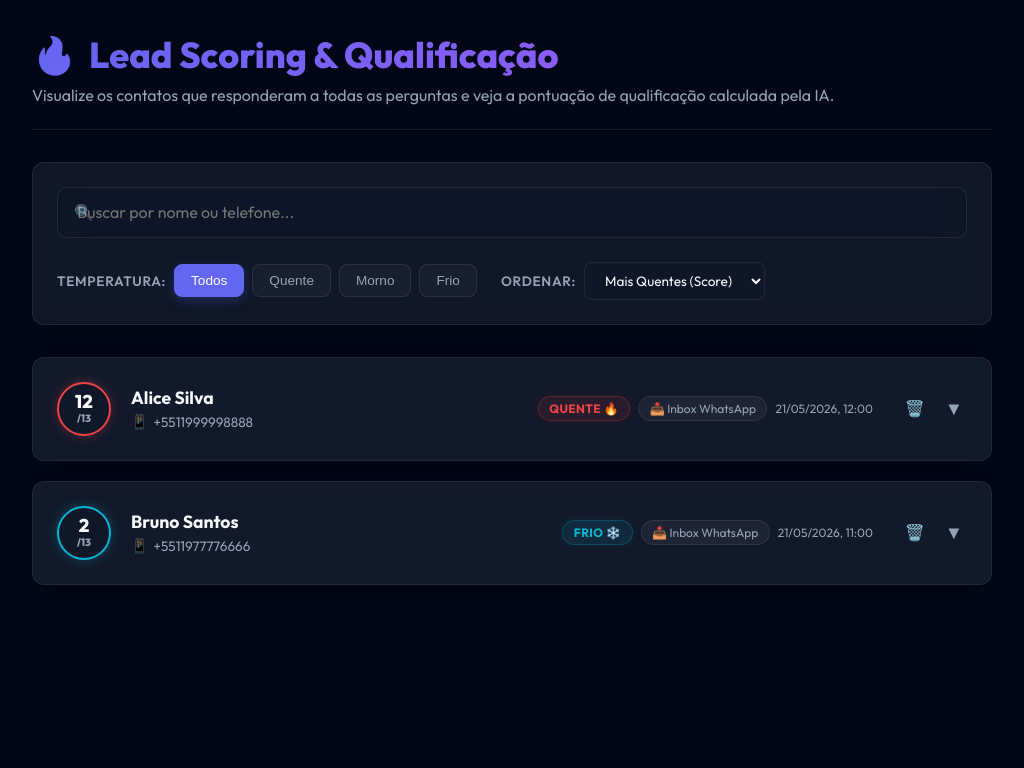
Test: LeadScoring Component › deve filtrar os leads ao digitar na caixa de pesquisa
Expected: the heading "Alice Silva" is shown, [131,386,214,409]
Type "Alice" into the field with placeholder "Buscar por nome ou telefone..." at (512, 212), box [77,188,947,237]
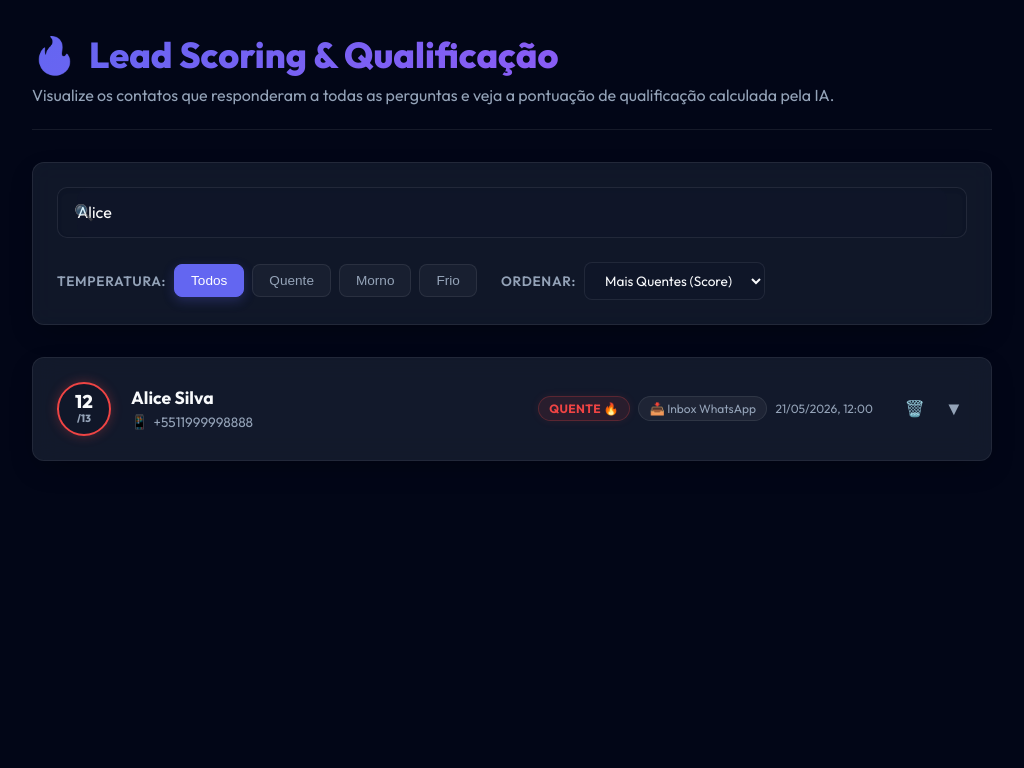
Expected: the heading "Alice Silva" is shown, [131,386,214,409]
Result: the heading "Bruno Santos" is gone
